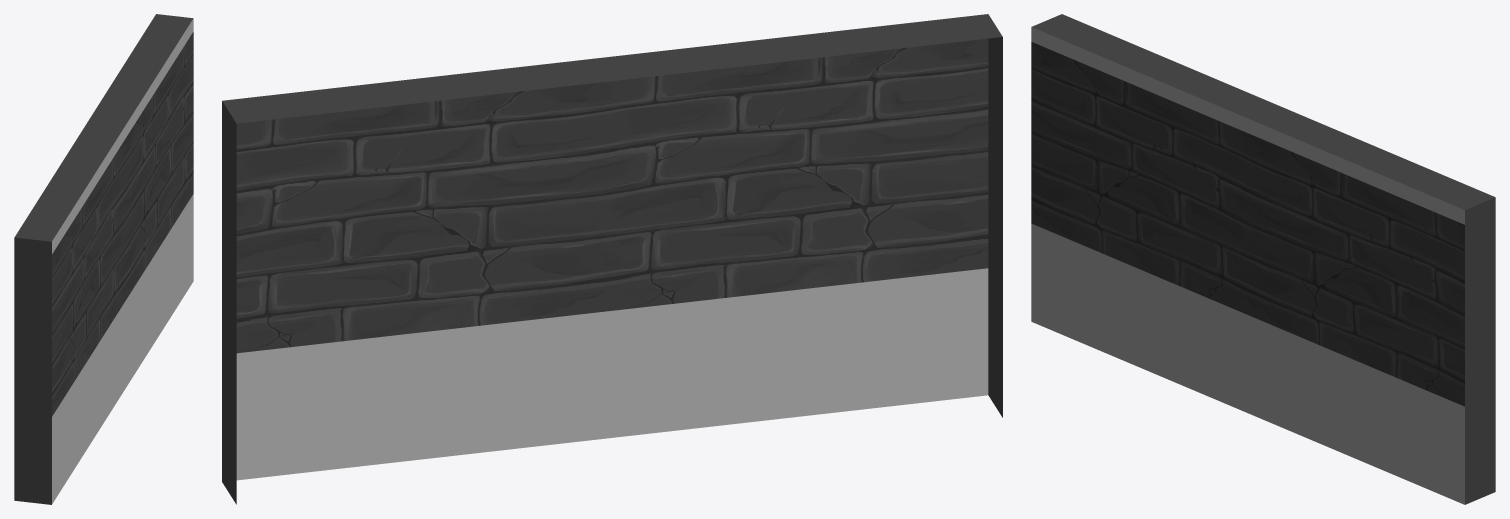
Rendered from SM_ModularKit_WallDiagnal.fbx.
3 views of the same model, side by side, from view 1: azimuth 30°, elevation 25°; view 2: azimuth 150°, elevation 25°; view 3: azimuth 270°, elevation 25° (orthographic). The views are drawn at different scales.
Visible parts, largest first — view 1: WallDiagnal; view 2: WallDiagnal; view 3: WallDiagnal.
Part boxes in pixels (x1,y1,x2,y2): WallDiagnal: (14,14,193,504); WallDiagnal: (222,14,1002,504); WallDiagnal: (1031,14,1495,504).
Bounding box in the file's own units: 428 × 300 × 428.
